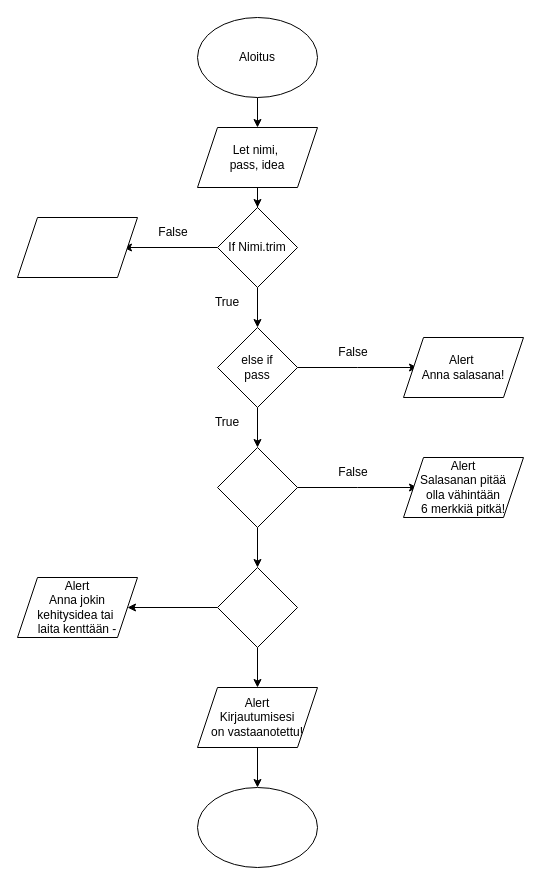
The diagram is 541 pixels wide and 885 high, and some of its shapes have lost their labels. The centre of each missing label's shape, as x and y in pixels:
"Alert Anna Nimi!" goes at point 77,247.
"Else if idea.trim" goes at point 257,607.
"Else if pass.length < 6" goes at point 257,487.
"Lopetus" goes at point 257,827.
